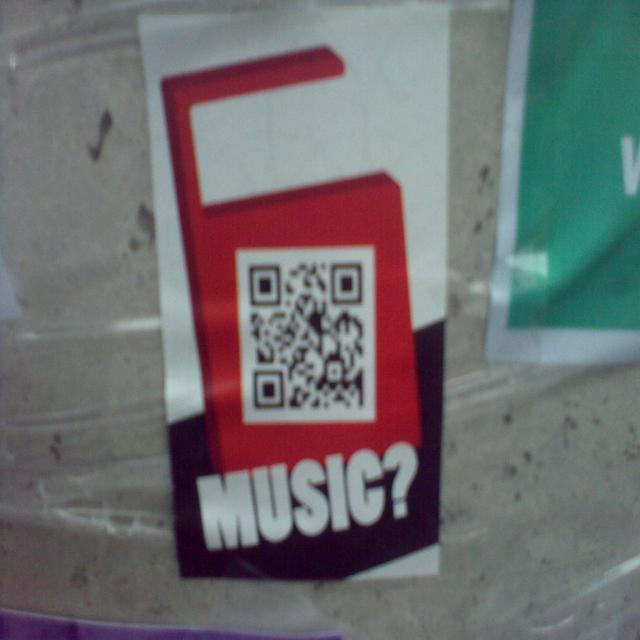qrcode: (251, 265, 365, 409)
